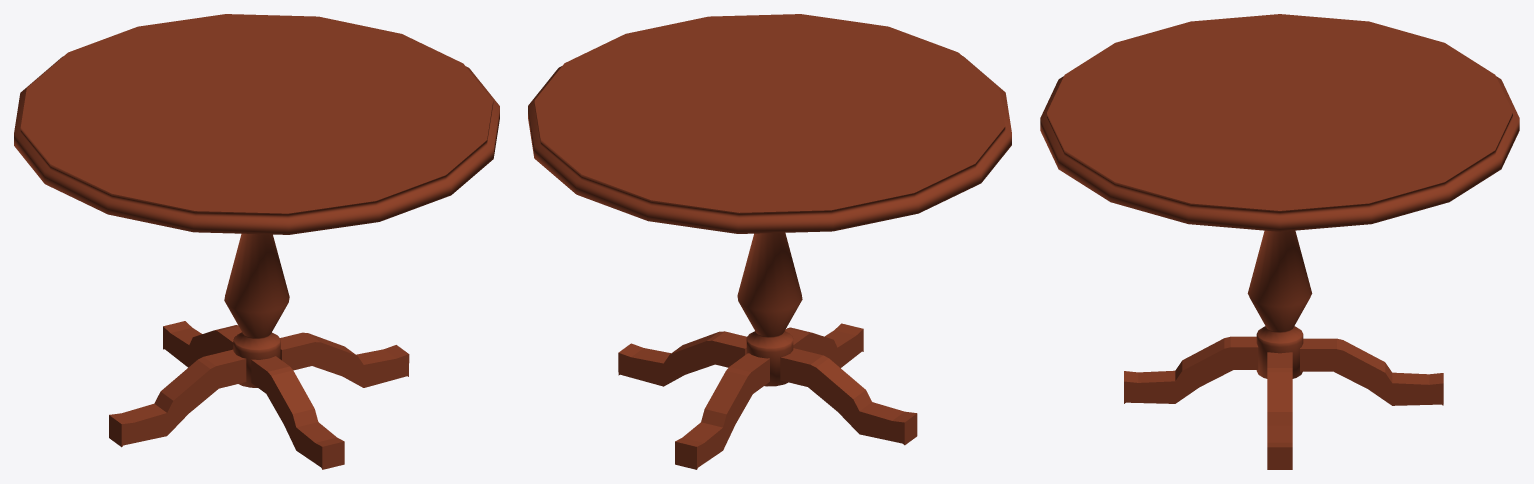
Rendered from osharedesk.gltf.
3 renders of one model, left to right at view 1: azimuth 30°, elevation 25°; view 2: azimuth 150°, elevation 25°; view 3: azimuth 270°, elevation 25°, orthographic. The views are drawn at different scales.
Parts seen in each view (by area): view 1: 円.001, 円, 立方体, 立方体.001, 立方体.002, 立方体.003; view 2: 円.001, 円, 立方体, 立方体.003, 立方体.002, 立方体.001; view 3: 円.001, 円, 立方体.003, 立方体.001, 立方体.002.
Boxes of the visible parts, left/top/right/bottom form: 円.001: left=14, top=14, right=499, bottom=234; 円: left=224, top=233, right=289, bottom=387; 立方体: left=109, top=349, right=246, bottom=447; 立方体.001: left=251, top=356, right=344, bottom=469; 立方体.002: left=280, top=332, right=409, bottom=387; 立方体.003: left=163, top=321, right=241, bottom=367; 円.001: left=528, top=14, right=1011, bottom=233; 円: left=737, top=232, right=802, bottom=386; 立方体: left=780, top=348, right=917, bottom=445; 立方体.003: left=675, top=353, right=769, bottom=469; 立方体.002: left=618, top=331, right=746, bottom=386; 立方体.001: left=785, top=323, right=863, bottom=367; 円.001: left=1040, top=14, right=1519, bottom=231; 円: left=1247, top=230, right=1312, bottom=378; 立方体.003: left=1300, top=338, right=1443, bottom=405; 立方体.001: left=1124, top=336, right=1258, bottom=403; 立方体.002: left=1267, top=352, right=1292, bottom=469.
Bounding box in the file's own units: 2.98 × 1.98 × 2.98.
